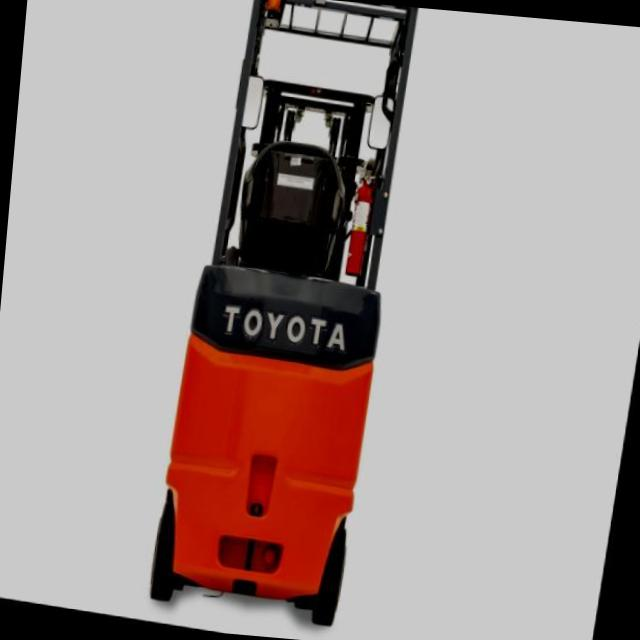forklift: (135, 0, 436, 626)
